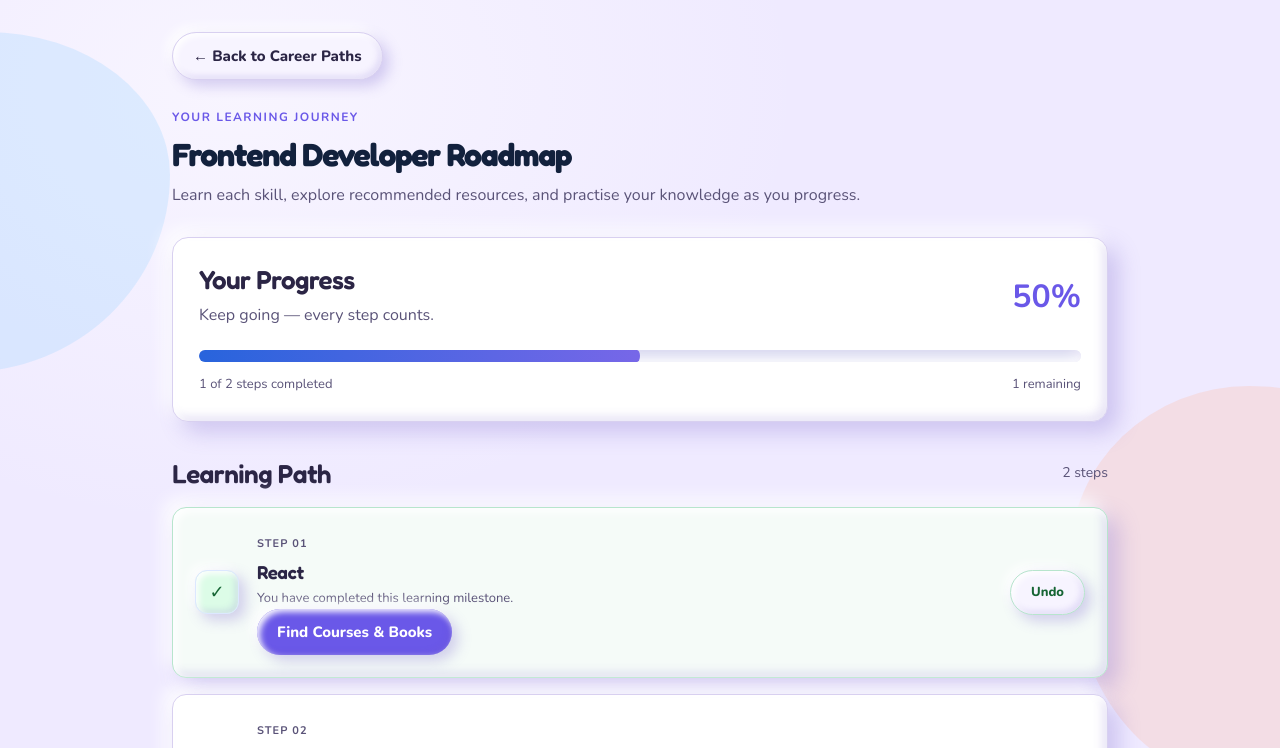
Scenario: Roadmap white-box progress paths › undoes a completed step and persists its removal
Expected: the text "1 of 2 steps completed" is shown, left=199, top=374, right=332, bottom=395
Click the button "Undo": (1048, 592) left=1010, top=570, right=1085, bottom=615
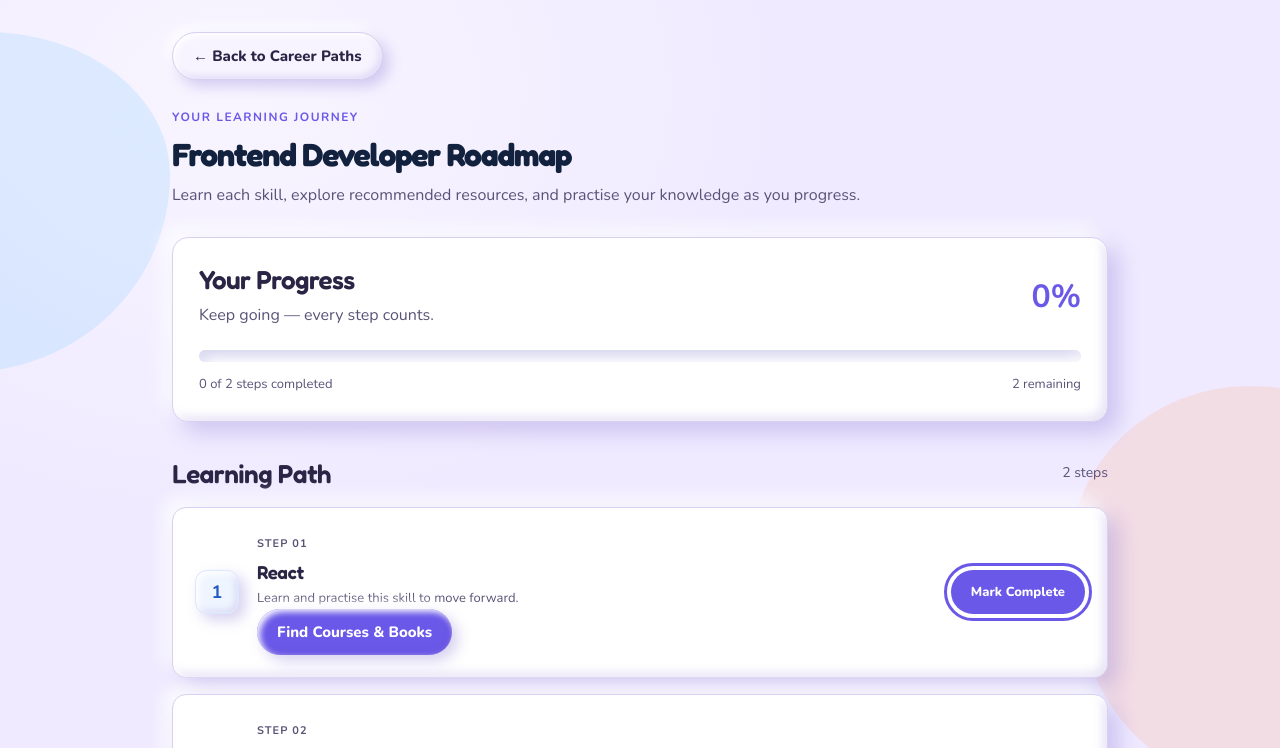
Now the text "0 of 2 steps completed" is shown, box left=199, top=374, right=332, bottom=395
